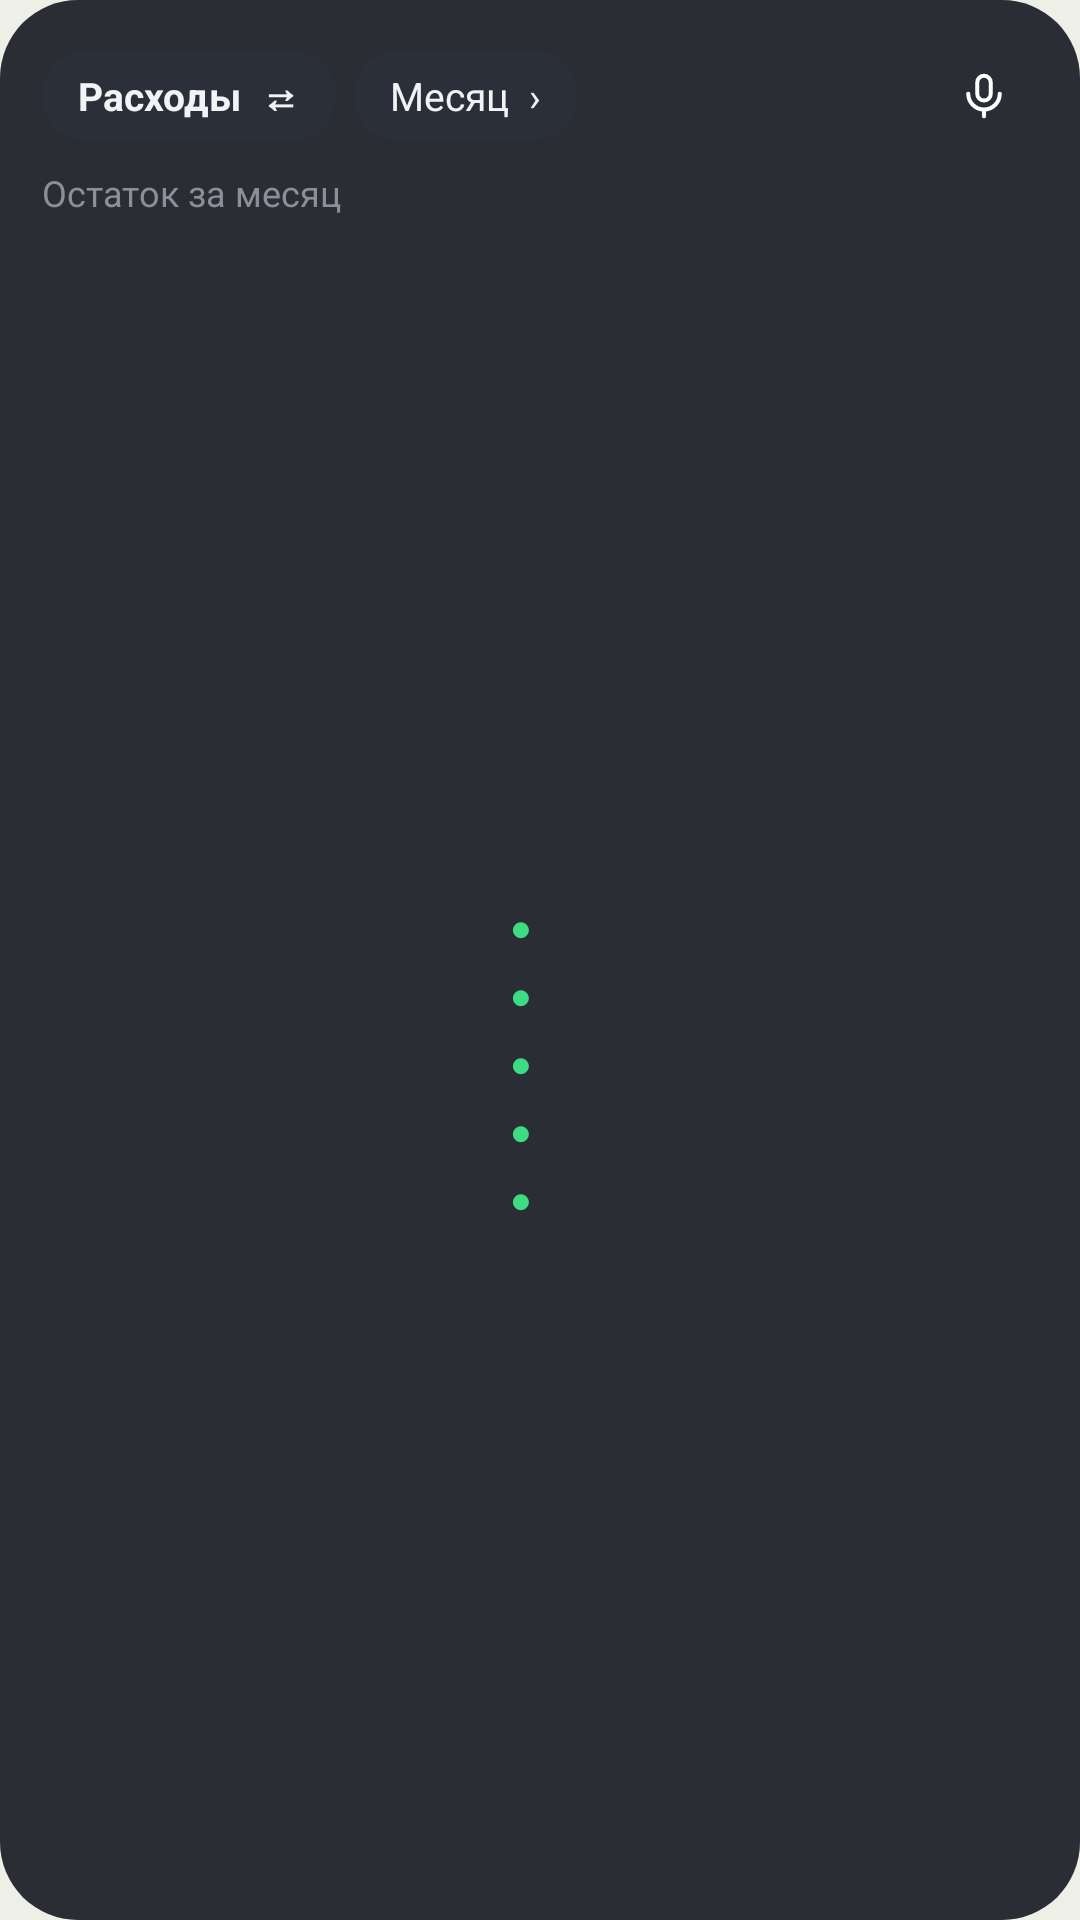

Point at icon controls on the screen. Image size 1080 x 1920, points as [x,y].
Сказать вслух: [984,96]
